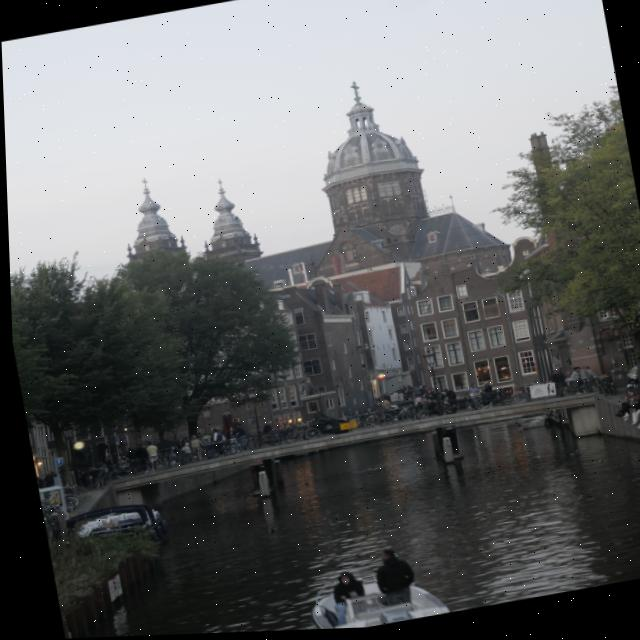building: (95, 59, 539, 458)
